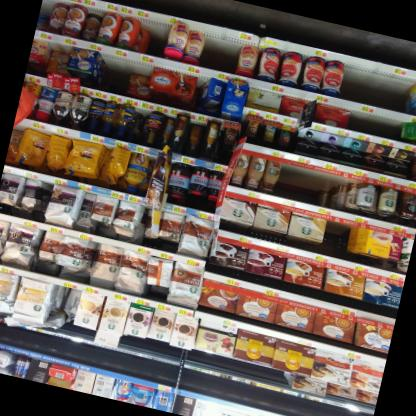empty_space: (373, 72, 416, 114), (337, 64, 380, 105), (94, 54, 135, 96), (198, 34, 240, 72), (277, 164, 313, 203), (319, 219, 352, 255), (344, 109, 385, 137), (144, 21, 171, 58), (307, 172, 334, 206), (35, 0, 54, 32), (381, 119, 403, 142)
